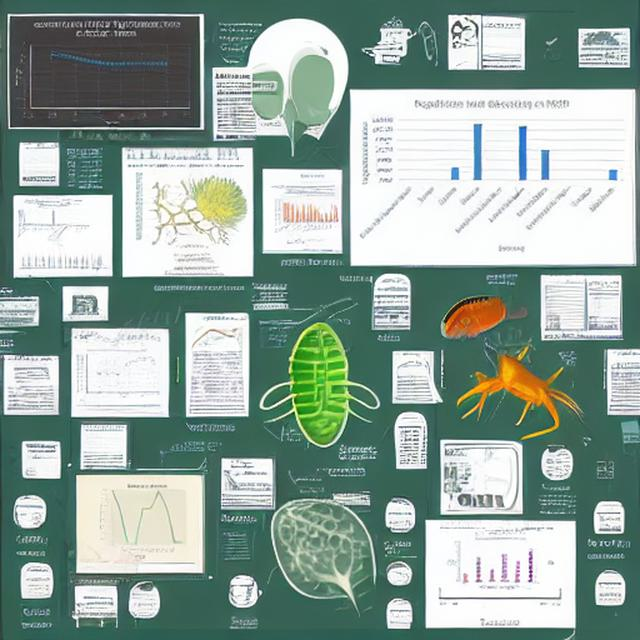Graph: (350, 90, 634, 261), (10, 18, 197, 128), (96, 479, 196, 554), (444, 535, 540, 591), (74, 348, 164, 402), (14, 200, 92, 245), (274, 190, 340, 235)
